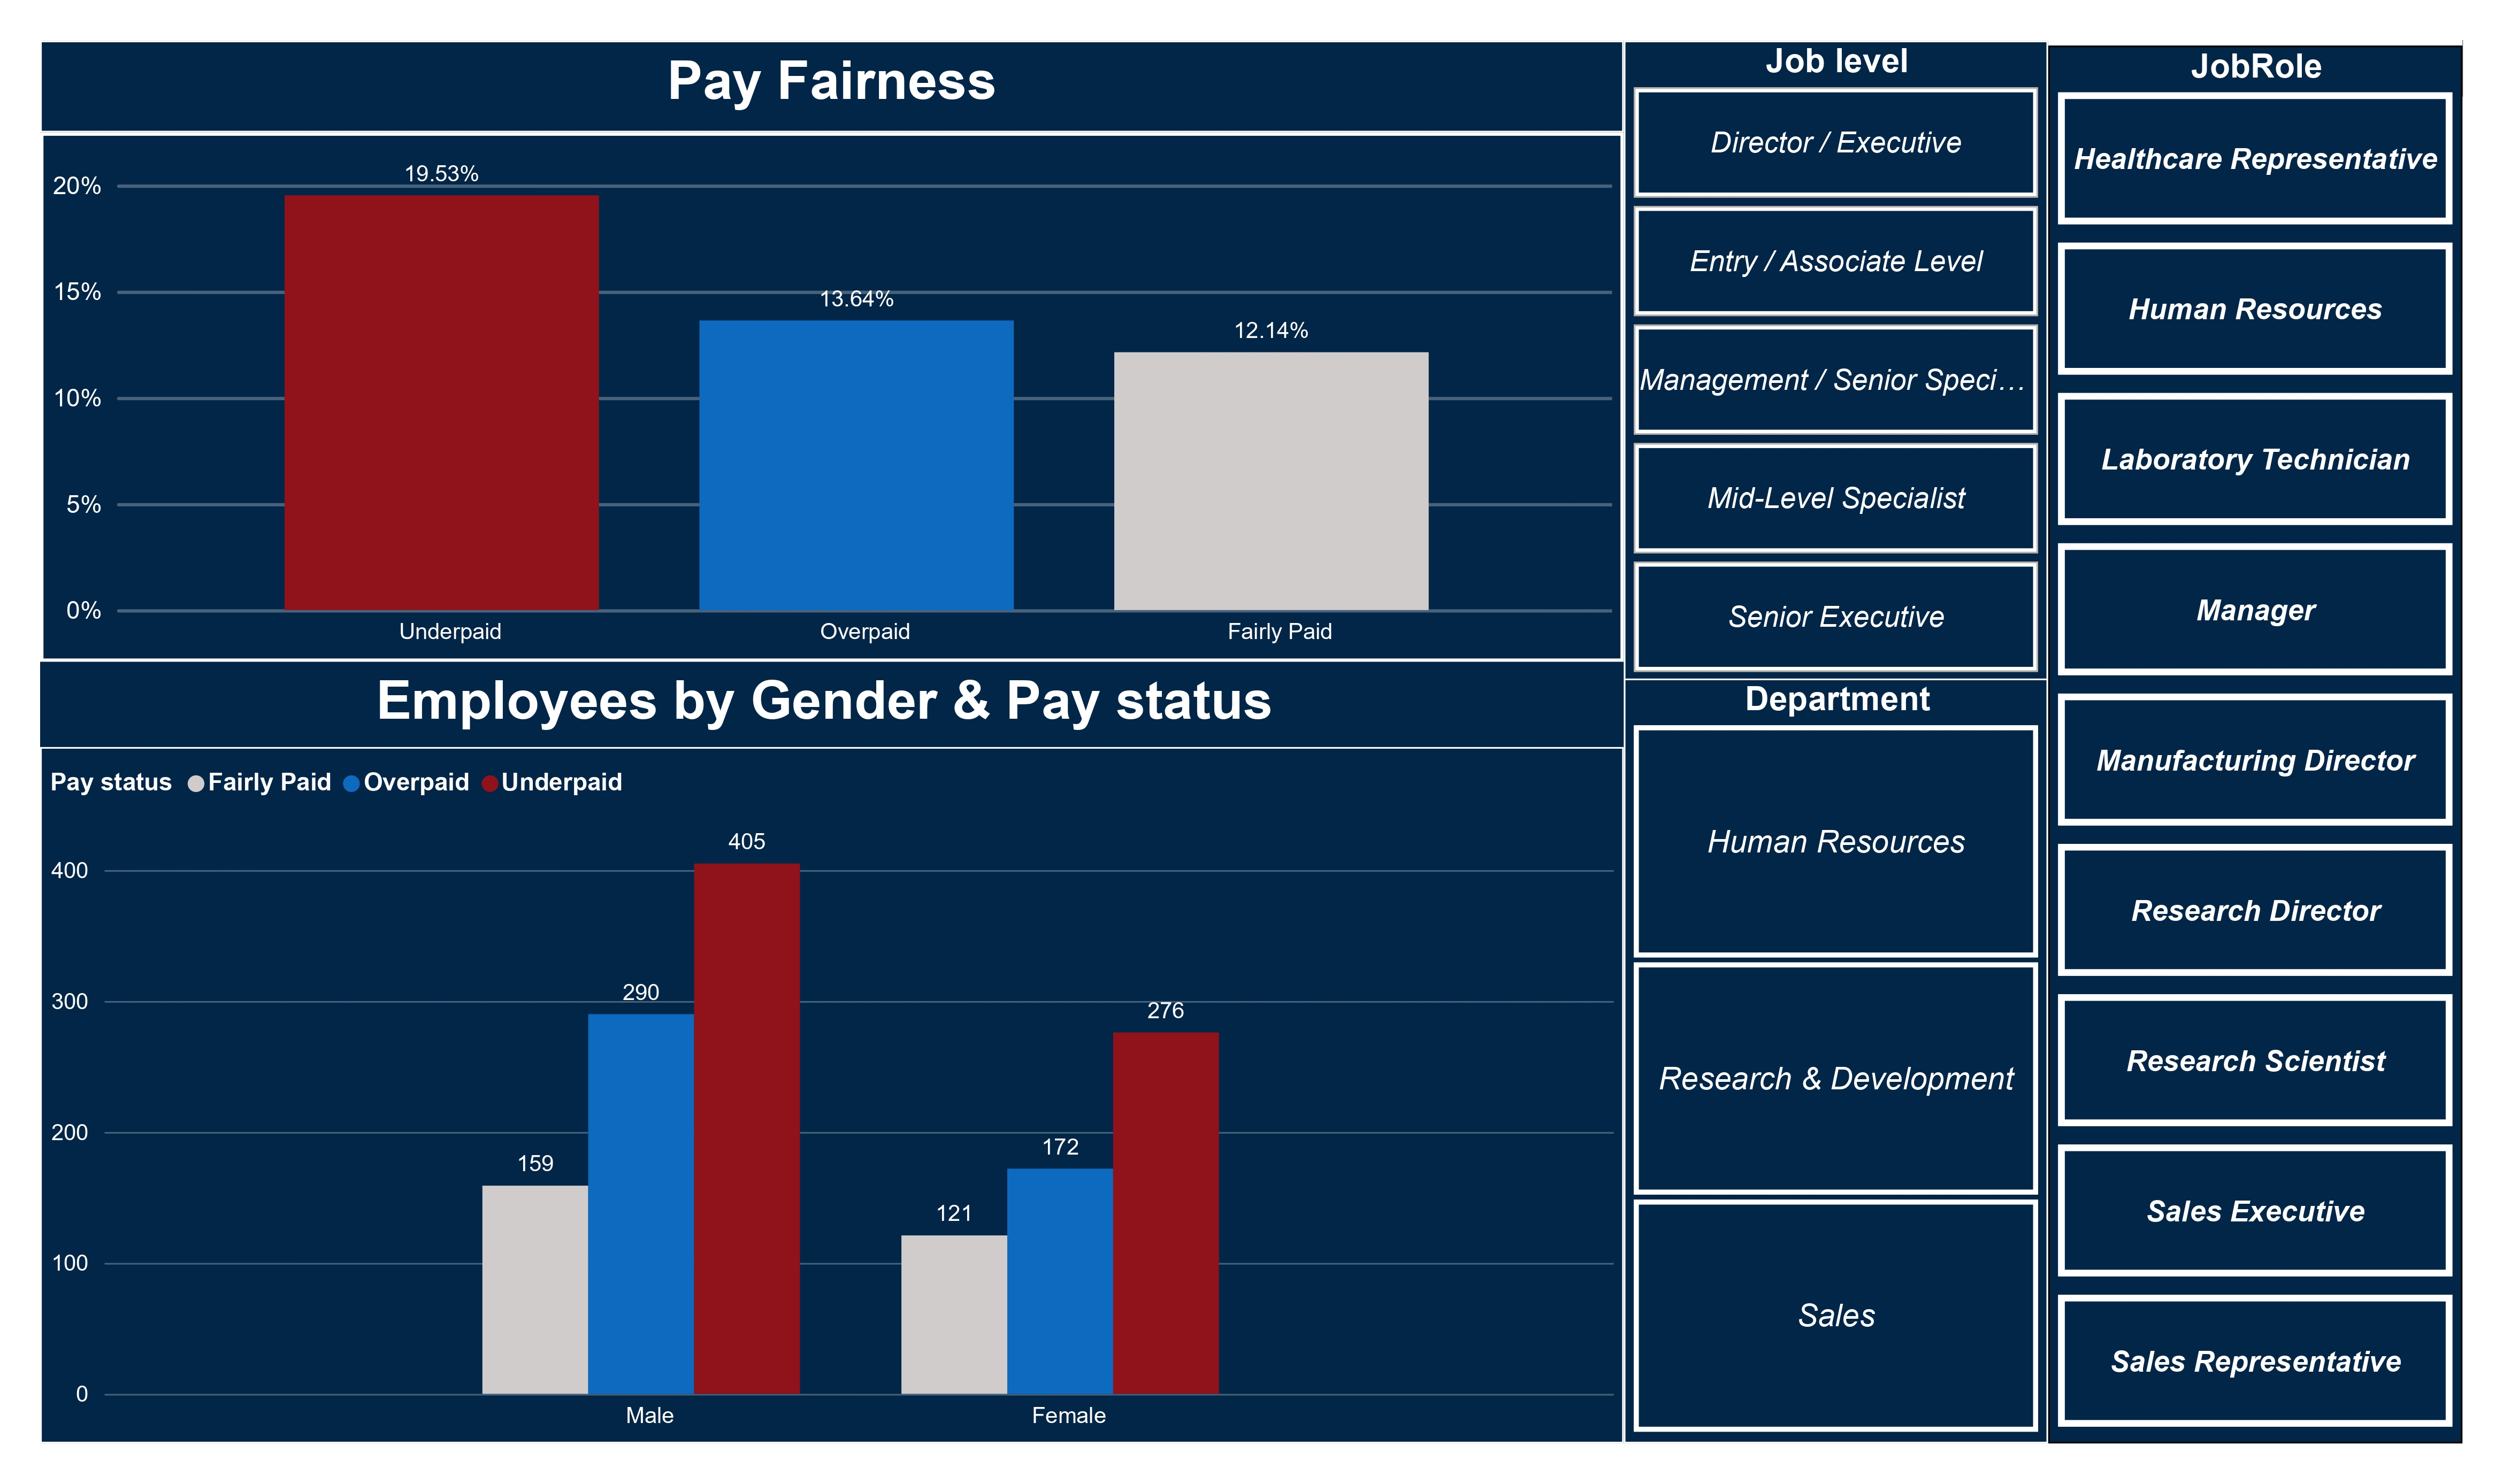

Layout of this report page (visuals, bound fields, positions):
{"tool":"powerbi","page":{"name":"Page 3","canvas":[1450,840],"ordinal":2},"visuals":[{"type":"lineClusteredColumnComboChart","fields":{"Category":["HR_Analytics.Pay status"],"Y":["Avg(HR_Analytics.Attrition score)"]},"box":[0,54.9,948,317.1],"z":0},{"type":"textbox","box":[0,0,948,54.9],"z":1000},{"type":"clusteredColumnChart","fields":{"Category":["HR_Analytics.Gender"],"Series":["HR_Analytics.Pay status"],"Y":["HR_Analytics.No of employees"]},"box":[0,423,948.4,417],"z":2000},{"type":"textbox","box":[0,372,948,51.4],"z":3000},{"type":"listSlicer","fields":{"Values":["HR_Analytics.JobRole"]},"box":[1201.7,3.4,248.6,836.6],"z":4000},{"type":"advancedSlicerVisual","fields":{"Values":["HR_Analytics.Job level"]},"box":[948,0,253.7,384],"z":5000},{"type":"advancedSlicerVisual","fields":{"Values":["HR_Analytics.Department"]},"box":[948,382.3,253.7,457.7],"z":6000}]}

Visuals, with their boxes in screenshot pixels (x1, y1, x2, y2):
lineClusteredColumnComboChart - HR_Analytics.Pay status x Avg(HR_Analytics.Attrition score): {"x1": 72, "y1": 129, "x2": 1628, "y2": 650}
textbox: {"x1": 72, "y1": 39, "x2": 1628, "y2": 129}
clusteredColumnChart - HR_Analytics.Gender x HR_Analytics.Pay status: {"x1": 72, "y1": 733, "x2": 1629, "y2": 1418}
textbox: {"x1": 72, "y1": 650, "x2": 1628, "y2": 734}
listSlicer - HR_Analytics.JobRole: {"x1": 2045, "y1": 45, "x2": 2453, "y2": 1418}
advancedSlicerVisual - HR_Analytics.Job level: {"x1": 1628, "y1": 39, "x2": 2045, "y2": 670}
advancedSlicerVisual - HR_Analytics.Department: {"x1": 1628, "y1": 667, "x2": 2045, "y2": 1418}
